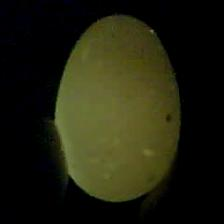infertile: (53, 11, 183, 204)
